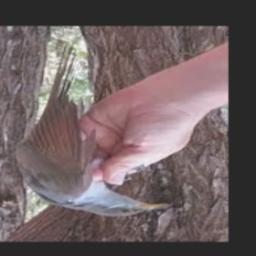Cuckoo: (15, 44, 171, 216)
